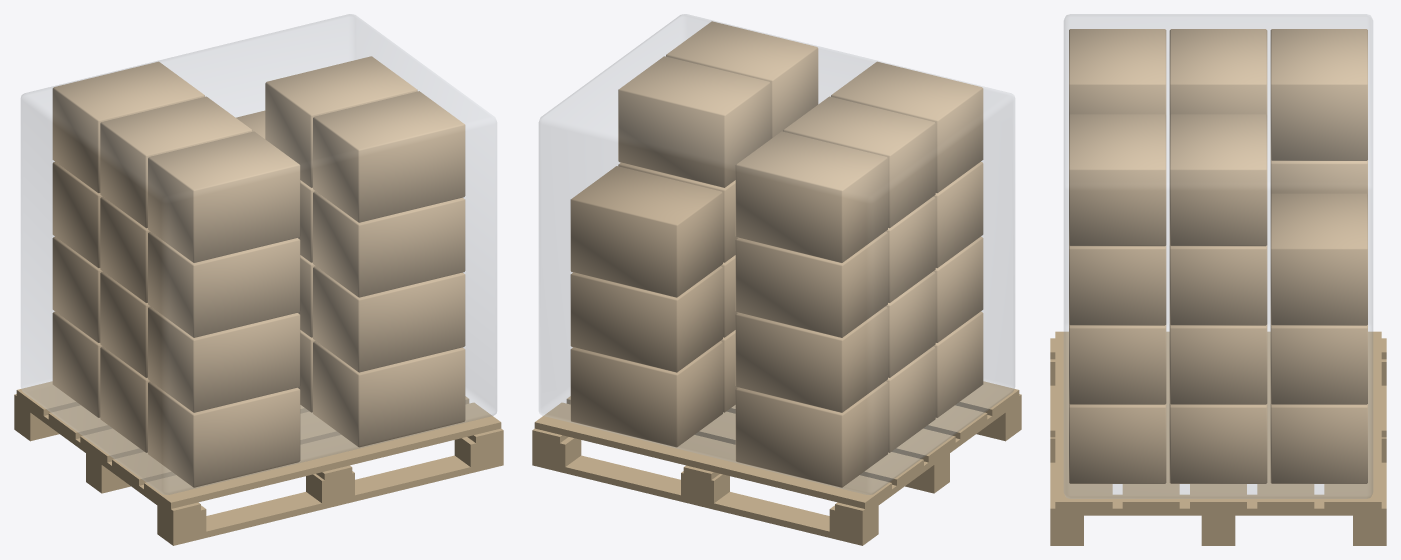
Rendered from pallet_load.glb.
The picture shows the model from 3 angles, left to right: view 1: azimuth 30°, elevation 25°; view 2: azimuth 150°, elevation 25°; view 3: azimuth 270°, elevation 25°; orthographic projection. The views are drawn at different scales.
Visible parts, largest first — view 1: Cube.043, Cube.041, Cube.038, Cube.029, Cube.023, Cube.026, Cube.035, Cube.020, Cube.032, Cube.040, Cube.039, Cube.042 (+21 smaller); view 2: Cube.043, Cube.037, Cube.040, Cube.042, Cube.031, Cube.025, Cube.028, Cube.022, Cube.034, Cube.038, Cube.039, Cube.041 (+21 smaller); view 3: Cube.043, Cube.042, Cube.041, Cube.037, Cube.040, Cube.039, Cube.038, Cube.030, Cube.024, Cube.036, Cube.023, Cube.025 (+15 smaller).
Boxes of the visible parts, <box> form: Cube.043: <box>21,14,496,494</box>; Cube.041: <box>313,91,465,222</box>; Cube.038: <box>148,131,300,262</box>; Cube.029: <box>313,266,465,372</box>; Cube.023: <box>313,341,465,447</box>; Cube.026: <box>148,306,300,412</box>; Cube.035: <box>313,191,465,297</box>; Cube.020: <box>148,381,300,487</box>; Cube.032: <box>148,231,300,337</box>; Cube.040: <box>52,61,204,193</box>; Cube.039: <box>100,96,252,228</box>; Cube.042: <box>265,56,417,187</box>; Cube.043: <box>539,14,1014,494</box>; Cube.037: <box>570,166,722,297</box>; Cube.040: <box>735,131,887,262</box>; Cube.042: <box>618,56,770,187</box>; Cube.031: <box>570,266,722,372</box>; Cube.025: <box>570,341,722,447</box>; Cube.028: <box>735,306,887,412</box>; Cube.022: <box>735,381,887,487</box>; Cube.034: <box>735,231,887,337</box>; Cube.038: <box>831,61,983,193</box>; Cube.039: <box>783,96,935,228</box>; Cube.041: <box>666,21,818,138</box>; Cube.043: <box>1064,14,1372,498</box>; Cube.042: <box>1169,114,1267,246</box>; Cube.041: <box>1069,114,1166,246</box>; Cube.037: <box>1270,193,1367,325</box>; Cube.040: <box>1270,29,1367,160</box>; Cube.039: <box>1169,29,1267,114</box>; Cube.038: <box>1069,29,1166,114</box>; Cube.030: <box>1169,324,1267,404</box>; Cube.024: <box>1169,404,1267,483</box>; Cube.036: <box>1169,245,1267,325</box>; Cube.023: <box>1069,404,1166,483</box>; Cube.025: <box>1270,404,1367,483</box>.
Size of the model in its own units: 1.22 by 1.19 by 1.
